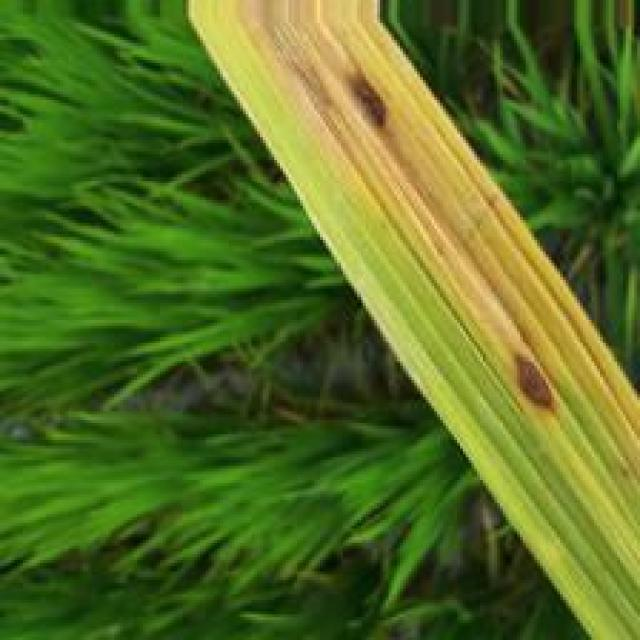Brown_Spot: (341, 58, 402, 140), (510, 345, 568, 417)
